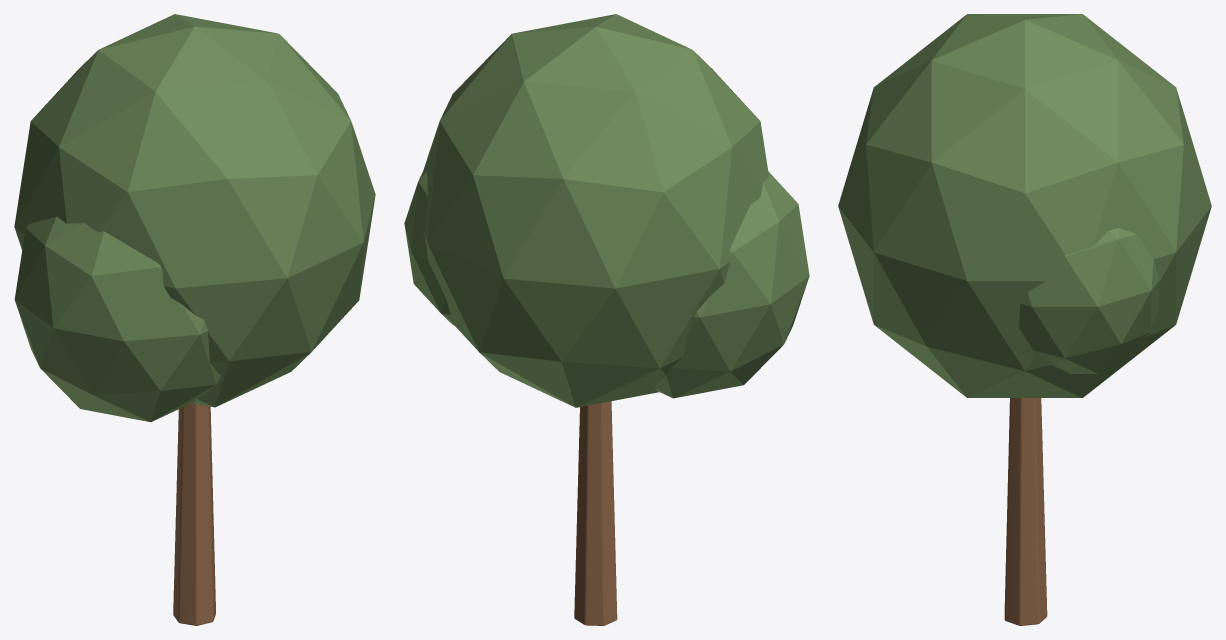
File: tree.glb
The picture shows the model from 3 angles, left to right: view 1: azimuth 30°, elevation 25°; view 2: azimuth 150°, elevation 25°; view 3: azimuth 270°, elevation 25°; orthographic projection.
Visible parts, largest first — view 1: tree_Tree_Crown, tree_Tree_Crown.001, tree_Tree_Trunk; view 2: tree_Tree_Crown, tree_Tree_Crown.001, tree_Tree_Trunk, tree_Tree_Crown.002; view 3: tree_Tree_Crown, tree_Tree_Crown.002, tree_Tree_Trunk.
Boxes of the visible parts, left/top/right/bottom form: tree_Tree_Crown: left=14, top=14, right=375, bottom=407; tree_Tree_Crown.001: left=14, top=216, right=220, bottom=422; tree_Tree_Trunk: left=173, top=403, right=215, bottom=625; tree_Tree_Crown: left=422, top=14, right=768, bottom=407; tree_Tree_Crown.001: left=654, top=171, right=809, bottom=398; tree_Tree_Trunk: left=574, top=401, right=617, bottom=625; tree_Tree_Crown.002: left=404, top=172, right=454, bottom=325; tree_Tree_Crown: left=838, top=14, right=1211, bottom=397; tree_Tree_Crown.002: left=1019, top=228, right=1159, bottom=373; tree_Tree_Trunk: left=1004, top=398, right=1047, bottom=625.
Bounding box in the file's own units: 2.91 × 4.94 × 2.8.
